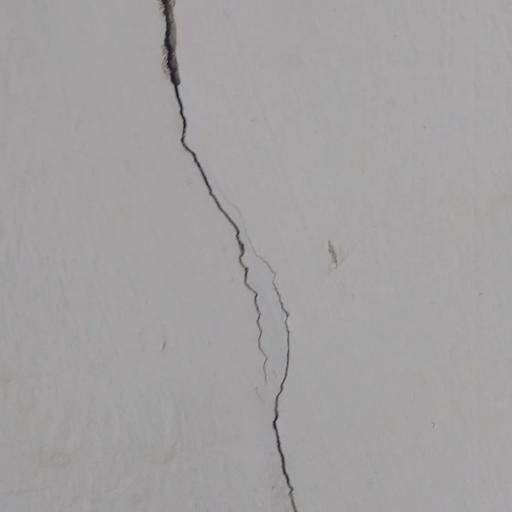major_crack: (151, 0, 314, 512)
